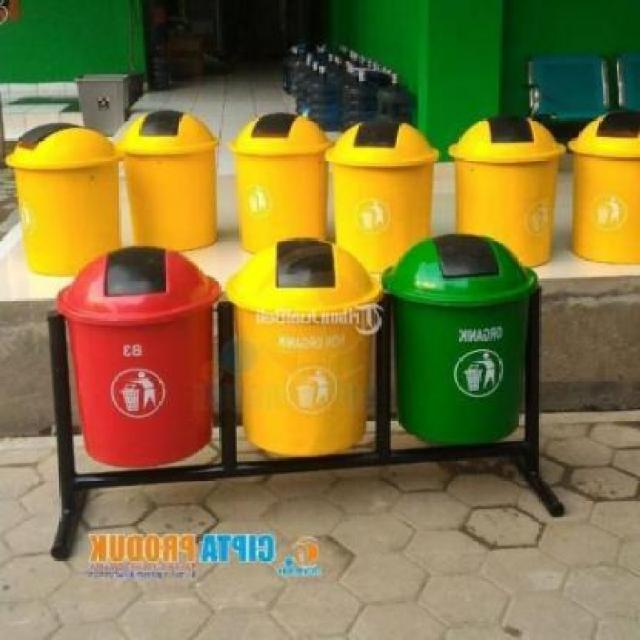garbage container: (222, 230, 387, 465), (51, 247, 223, 471), (378, 227, 540, 461), (440, 112, 565, 272), (324, 116, 442, 276), (2, 119, 120, 279), (222, 109, 335, 256), (119, 105, 224, 252), (563, 104, 639, 265)
